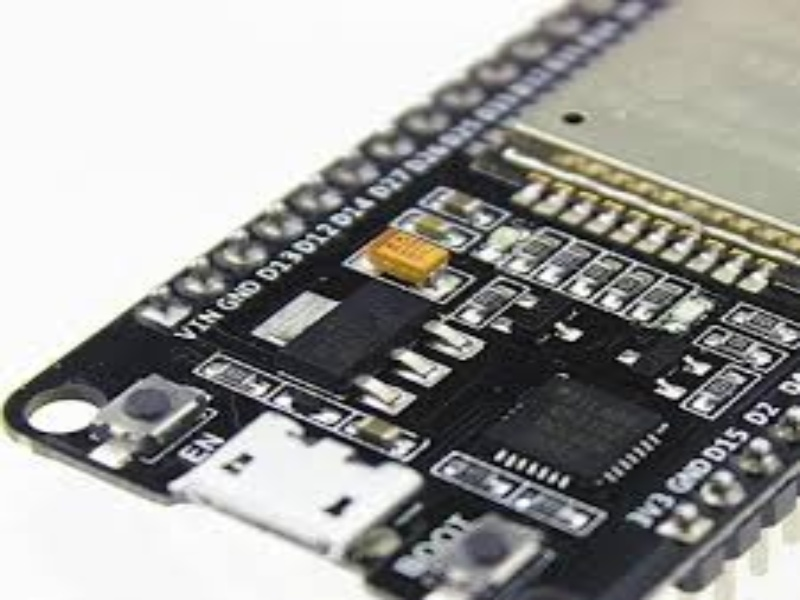esp32: (20, 2, 781, 538)
